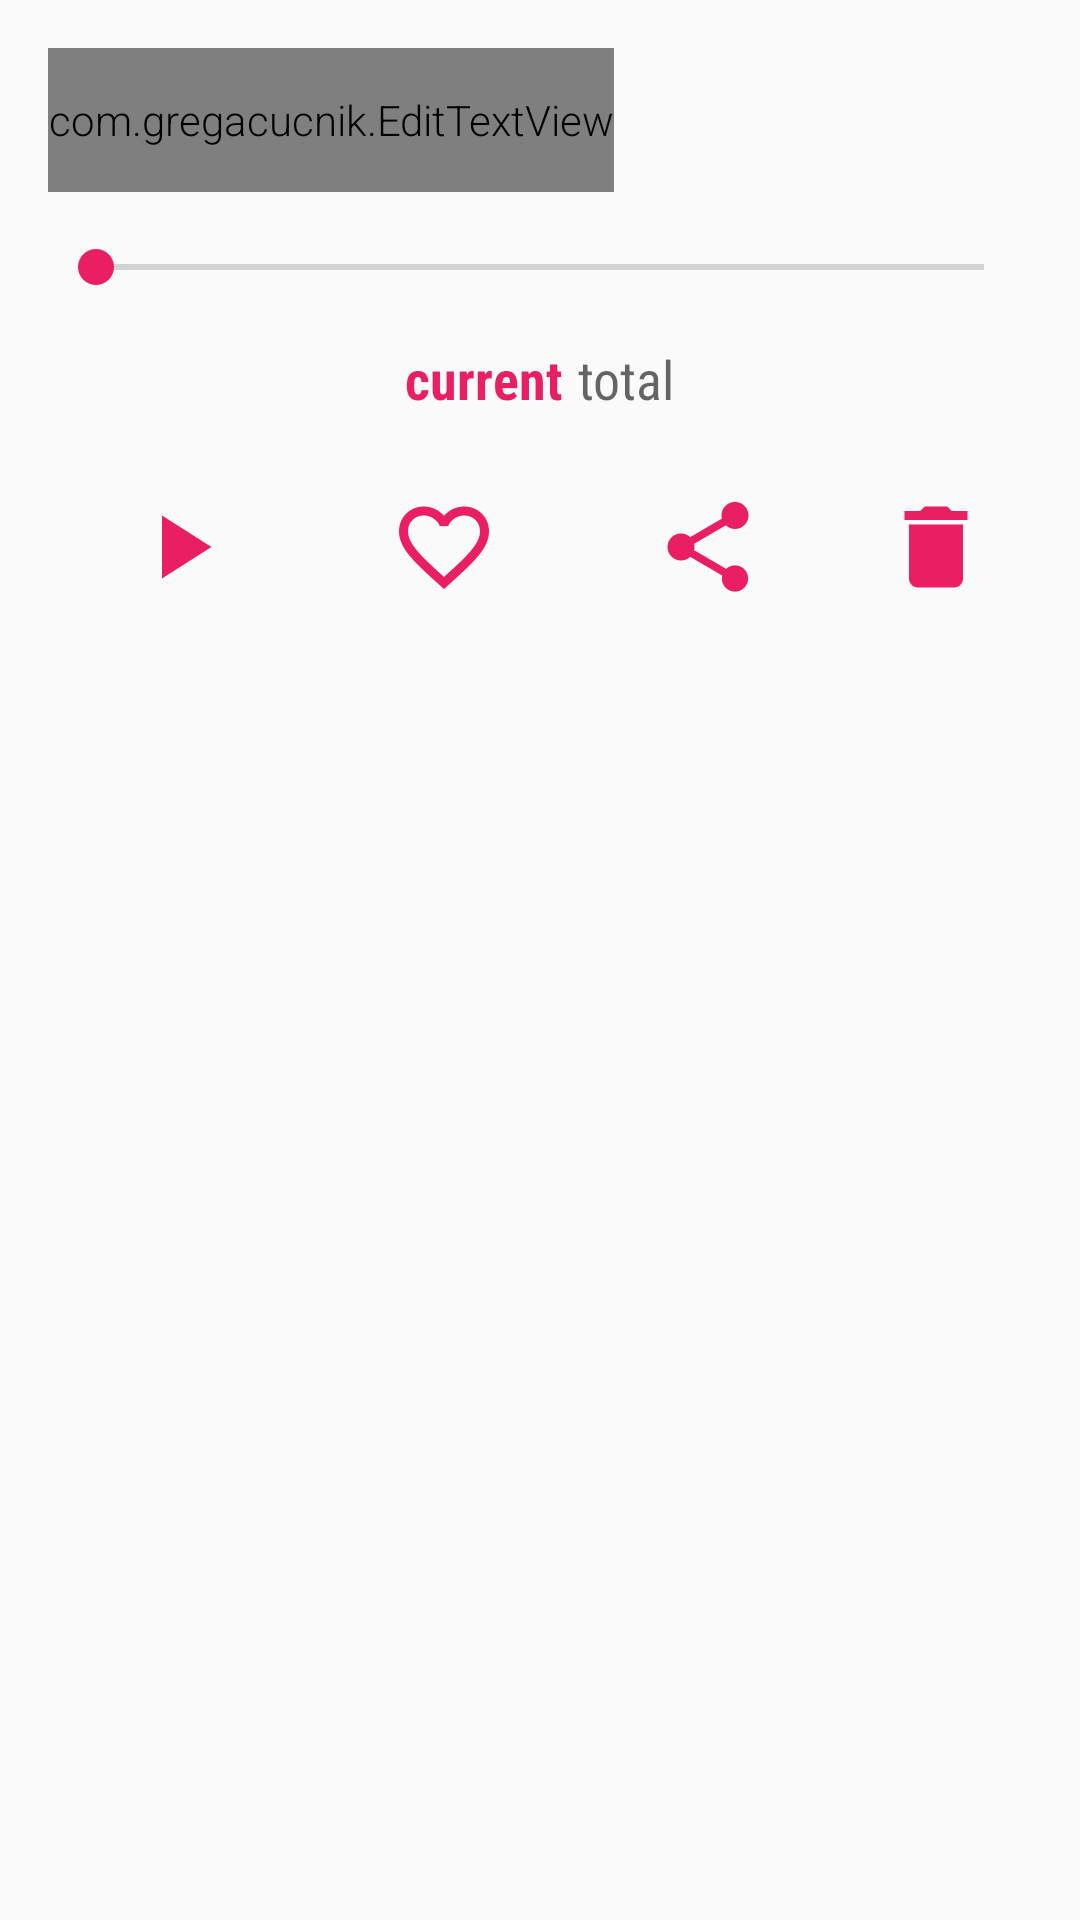

Where to tap for icons on this 1080 x 1920 app screen, as point (x, y):
delete: point (936, 547)
favorite: point (444, 547)
play arrow: point (186, 547)
share: point (708, 547)
